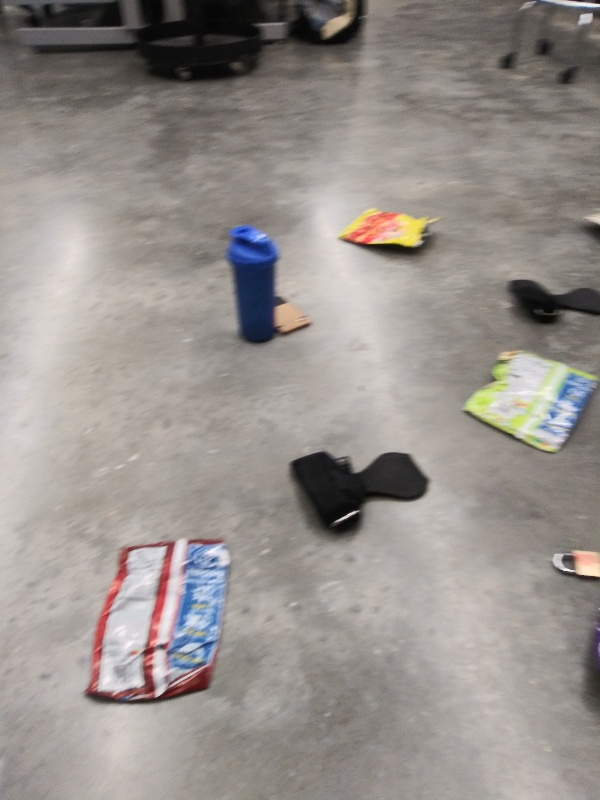bag: (73, 535, 238, 707), (457, 345, 600, 461), (330, 205, 443, 258)
